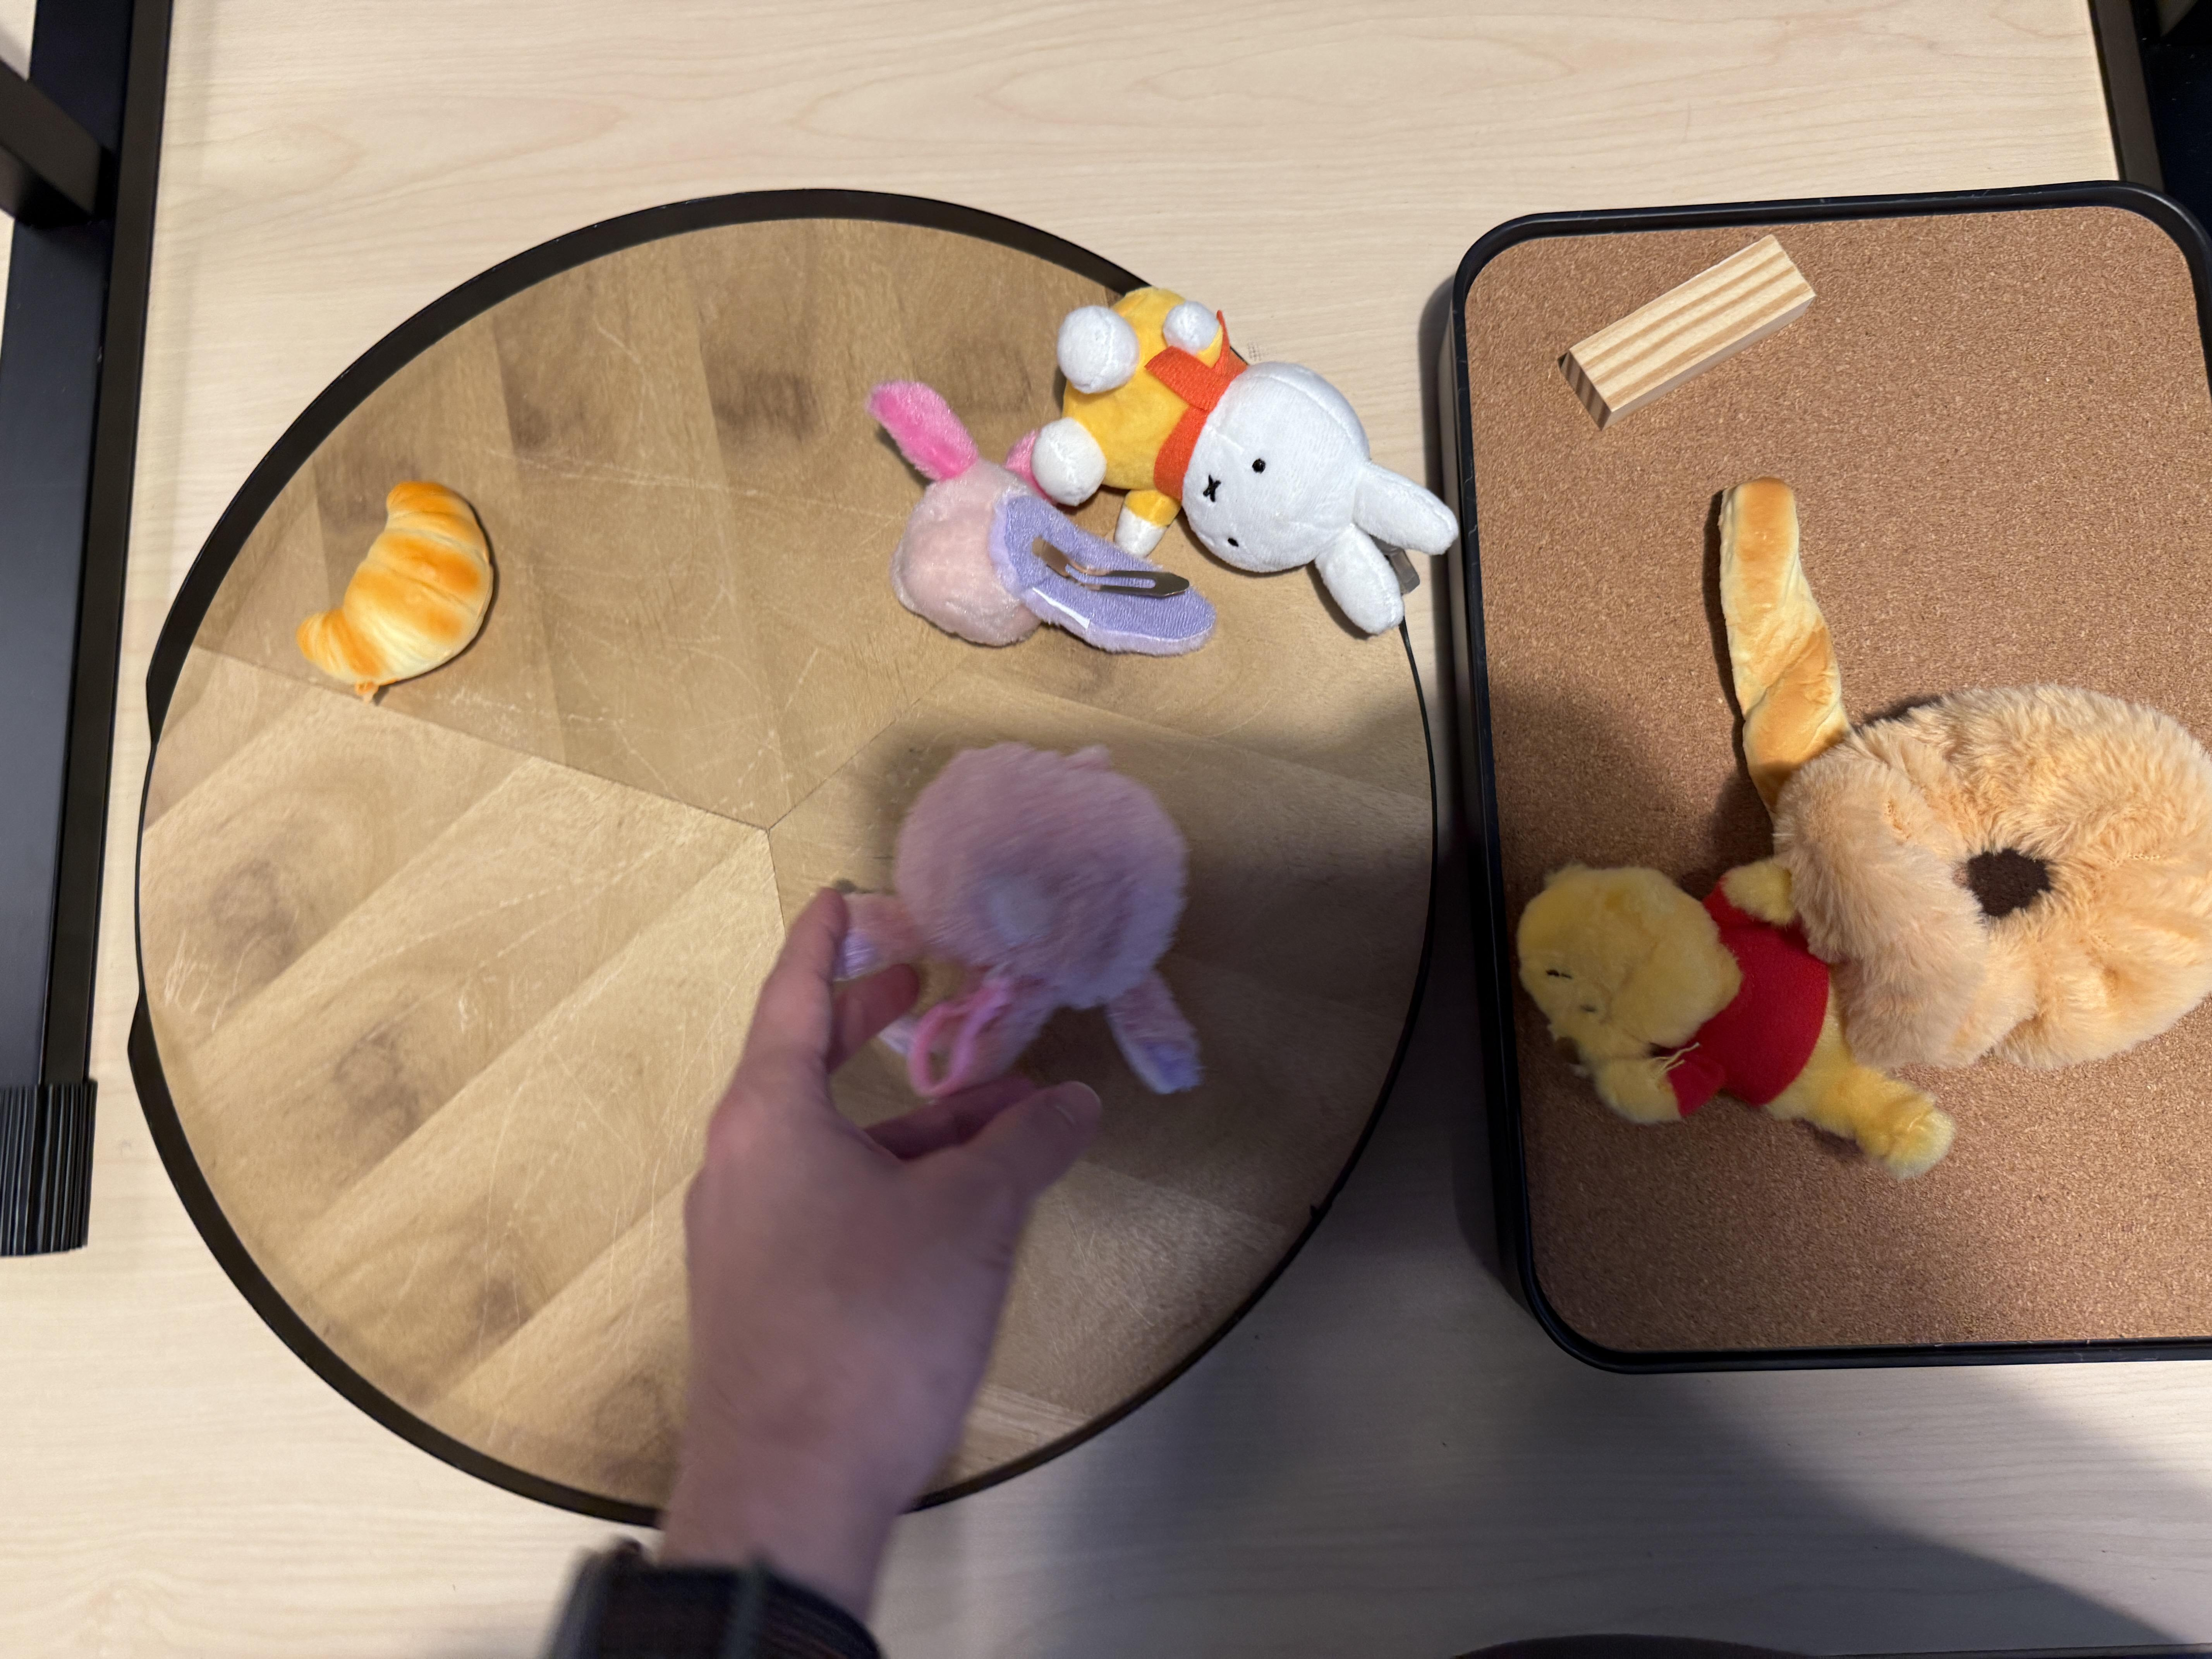bread: (1716, 481, 1883, 829), (1561, 237, 1817, 427), (296, 477, 498, 694)
doll: (1510, 681, 2212, 1176), (1036, 284, 1463, 636), (829, 748, 1212, 1093), (871, 387, 1217, 660)
